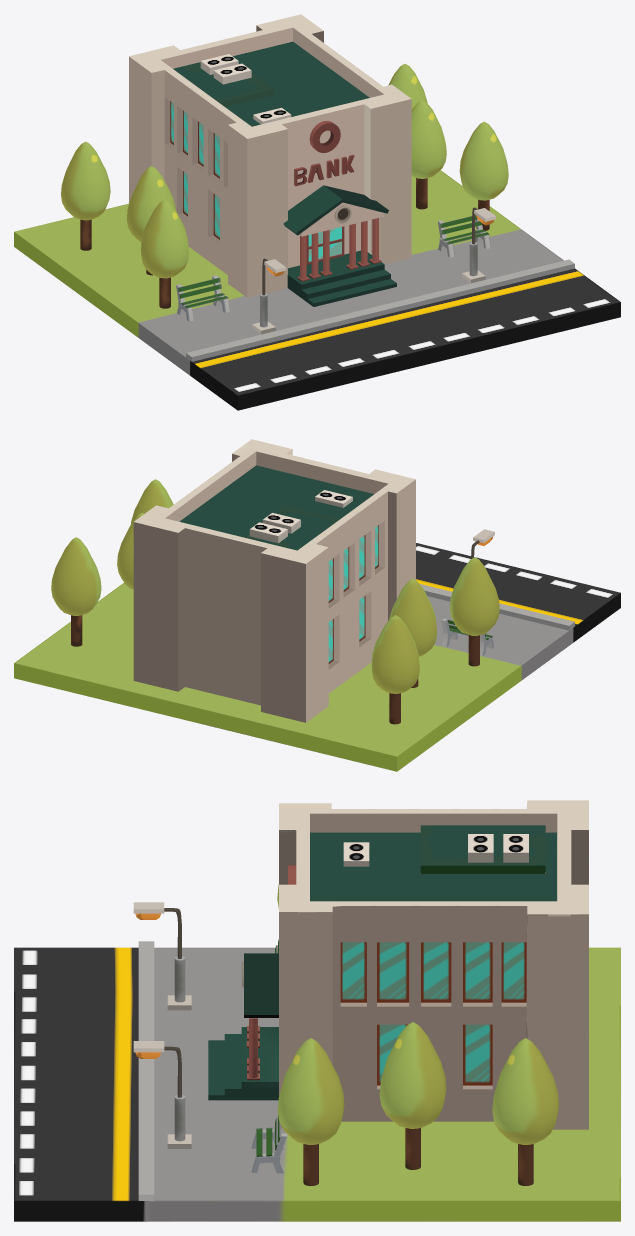
The model's file is bank.glb.
3 views of the same model, one above another, from view 1: azimuth 30°, elevation 25°; view 2: azimuth 150°, elevation 25°; view 3: azimuth 270°, elevation 25° (orthographic). The views are drawn at different scales.
Parts seen in each view (by area): view 1: Bank_Asset; view 2: Bank_Asset; view 3: Bank_Asset.
Boxes of the visible parts, left/top/right/bottom form: Bank_Asset: left=14, top=14, right=620, bottom=410; Bank_Asset: left=14, top=439, right=620, bottom=771; Bank_Asset: left=14, top=800, right=620, bottom=1221.
Bounding box in the file's own units: 148 × 64.4 × 150.
1 material, 1 textured.
